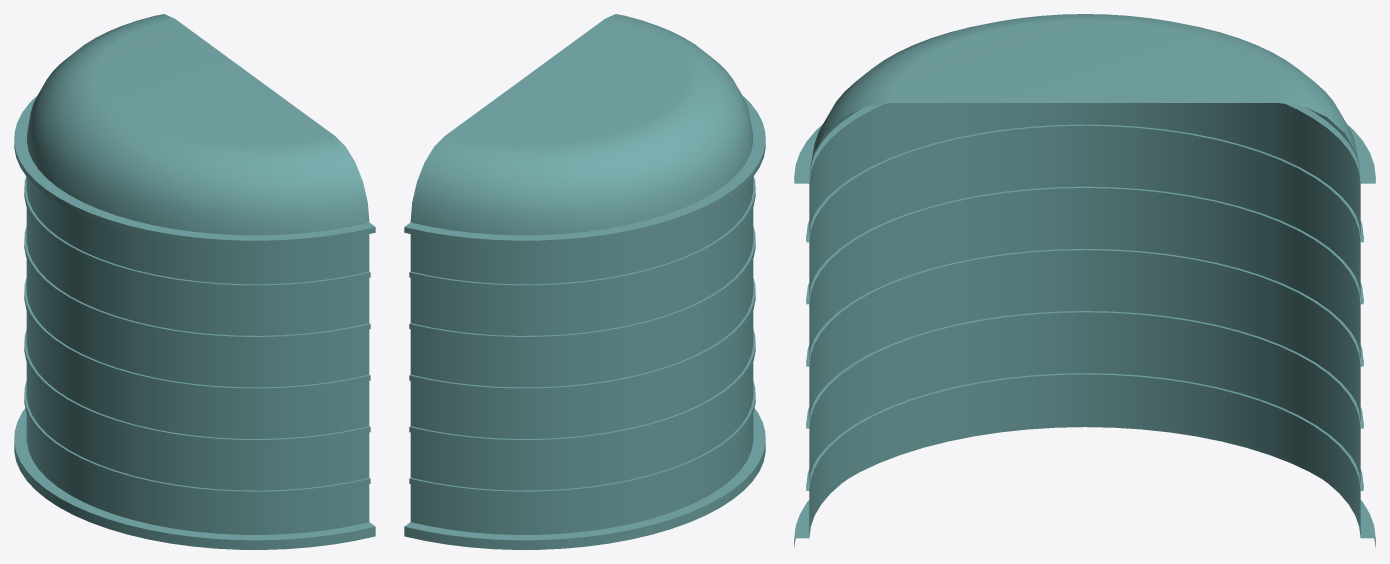
The model's file is SM_Shell2.fbx.
3 renders of one model, left to right at view 1: azimuth 30°, elevation 25°; view 2: azimuth 150°, elevation 25°; view 3: azimuth 270°, elevation 25°, orthographic. The views are drawn at different scales.
Parts seen in each view (by area): view 1: SM_Shell1; view 2: SM_Shell1; view 3: SM_Shell1.
Boxes of the visible parts, <box> form: SM_Shell1: <box>14,14,375,549</box>; SM_Shell1: <box>404,14,765,549</box>; SM_Shell1: <box>794,14,1375,547</box>.
Size of the model in its own units: 192 by 325 by 384.
